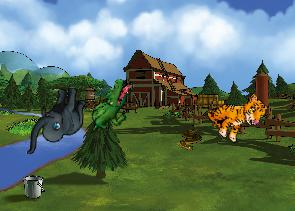crocodile: (88, 74, 134, 139)
elephant: (26, 84, 86, 157)
tiger: (202, 79, 271, 149)
